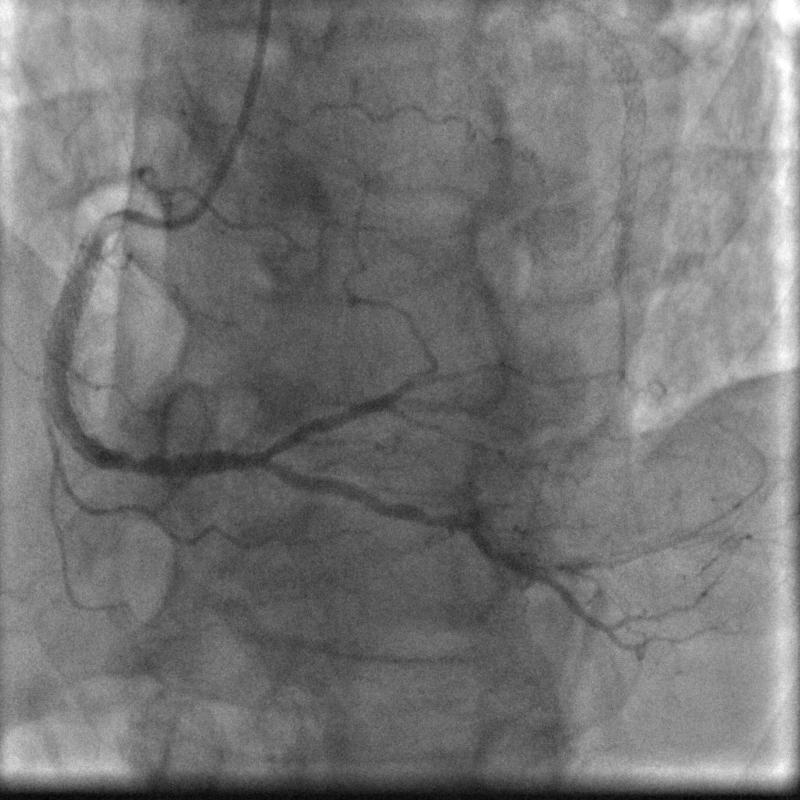Stenosis: (96, 197, 154, 234)
